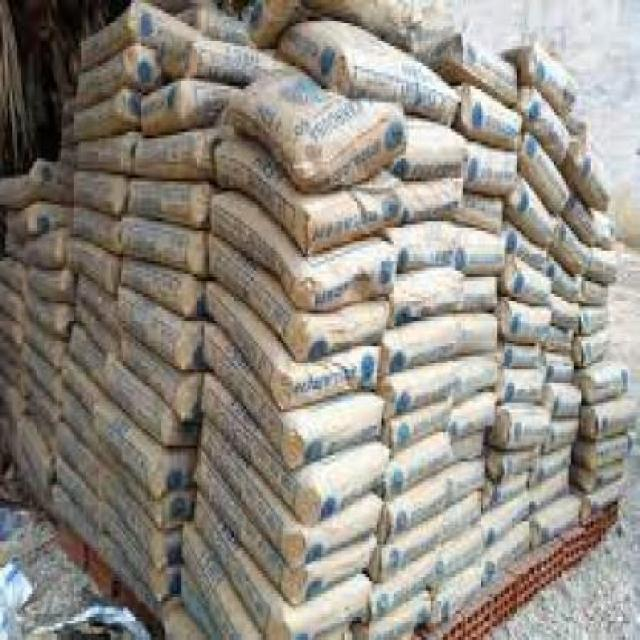gunny_bag: (304, 171, 401, 261), (295, 435, 388, 528), (291, 391, 382, 481), (304, 110, 406, 189), (384, 355, 499, 421), (301, 231, 392, 314), (116, 283, 198, 374), (384, 311, 497, 377), (342, 53, 452, 119), (302, 493, 381, 573), (297, 529, 381, 603), (294, 298, 388, 364), (121, 206, 209, 275), (288, 350, 384, 413), (394, 267, 496, 324), (381, 430, 456, 501), (292, 575, 372, 640), (454, 30, 523, 105), (381, 471, 449, 547), (428, 550, 492, 630), (463, 80, 523, 156), (381, 509, 444, 581), (118, 262, 202, 316), (520, 130, 570, 212), (401, 123, 468, 184), (373, 553, 441, 611), (388, 393, 449, 457), (484, 515, 538, 584), (510, 173, 559, 248), (395, 218, 467, 269), (128, 174, 203, 222), (526, 46, 580, 112), (525, 85, 570, 162), (355, 595, 428, 640), (399, 176, 464, 225), (464, 138, 518, 196), (132, 134, 203, 176), (478, 489, 532, 544), (530, 437, 581, 490), (497, 404, 545, 459), (499, 294, 551, 344), (533, 482, 579, 537), (586, 465, 627, 526), (526, 465, 577, 514), (572, 141, 610, 206), (450, 390, 499, 440), (504, 256, 553, 305), (510, 223, 553, 278), (441, 526, 488, 575), (458, 190, 510, 234), (139, 79, 182, 130), (583, 360, 629, 407), (152, 38, 198, 85), (459, 226, 502, 276), (554, 220, 591, 278), (447, 485, 484, 542), (586, 445, 635, 485), (445, 457, 488, 501), (592, 397, 635, 440), (561, 192, 595, 245), (588, 430, 638, 465), (488, 471, 530, 512), (542, 418, 583, 459), (502, 366, 545, 405), (451, 424, 490, 465), (583, 245, 621, 286), (495, 448, 540, 481), (551, 287, 581, 335), (576, 328, 613, 366), (502, 341, 544, 374), (545, 382, 581, 419), (591, 209, 622, 251), (553, 259, 577, 300), (581, 278, 612, 309), (546, 347, 574, 380), (546, 322, 574, 350), (579, 309, 613, 331)
